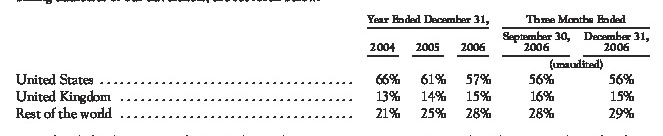table: (0, 0, 663, 136)
